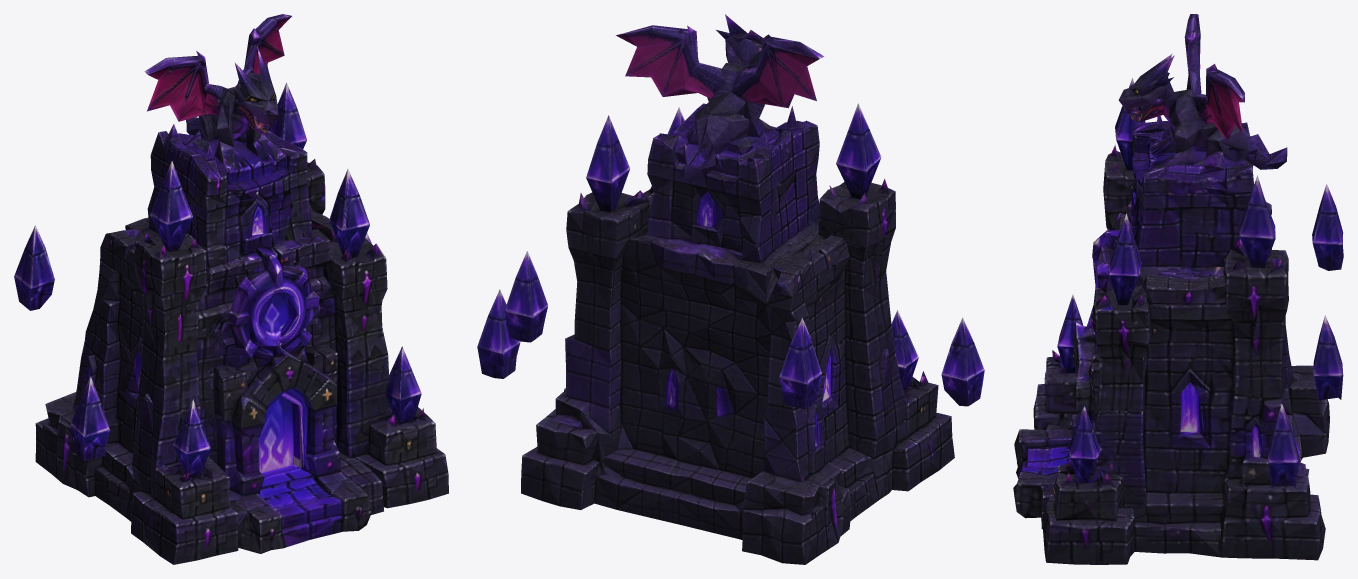
The model's file is void_tower_lvl5.glb.
3 views of the same model, side by side, from view 1: azimuth 30°, elevation 25°; view 2: azimuth 150°, elevation 25°; view 3: azimuth 270°, elevation 25° (orthographic). The views are drawn at different scales.
Parts seen in each view (by area): view 1: mesh_node; view 2: mesh_node; view 3: mesh_node.
Boxes of the visible parts, x1,y1,x2,y2 form: mesh_node: (14,14,448,564); mesh_node: (477,14,984,564); mesh_node: (1013,14,1343,564).
Bounding box in the file's own units: 1.76 × 1.9 × 1.28.
Materials: 1 (1 with a texture image).
